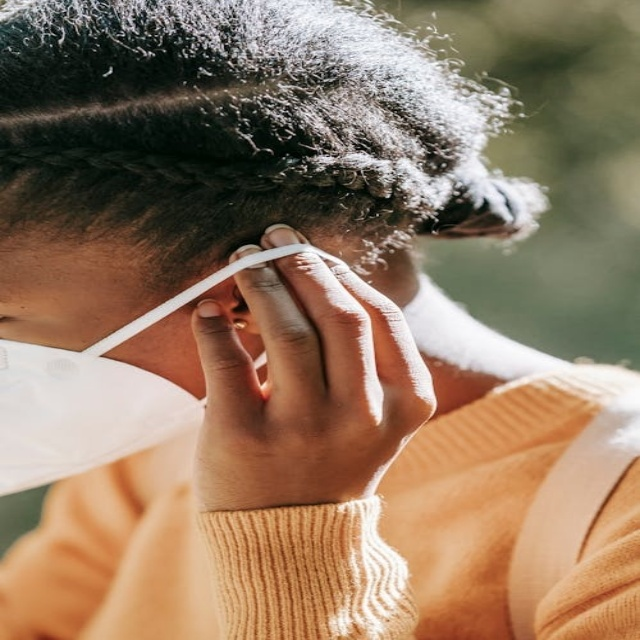Mascara: (3, 241, 327, 507)
Sin_guantes: (187, 224, 437, 511)
